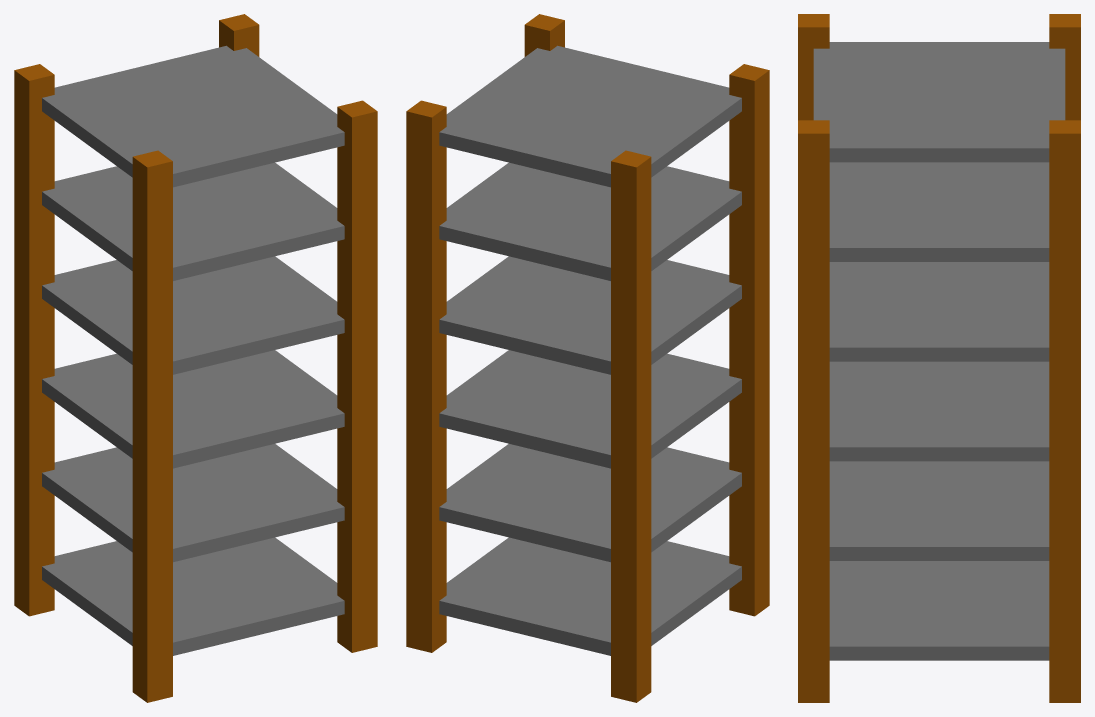
3 views of the same model, side by side, from view 1: azimuth 30°, elevation 25°; view 2: azimuth 150°, elevation 25°; view 3: azimuth 270°, elevation 25° (orthographic). The views are drawn at different scales.
Visible parts, largest first — view 1: Cube.008, Cube.004, Cube.003, Cube.001, Cube.005, Cube, Cube.006, Cube.007, Cube.009, Cube.002; view 2: Cube.008, Cube.001, Cube.002, Cube.004, Cube.005, Cube, Cube.006, Cube.007, Cube.009, Cube.003; view 3: Cube.008, Cube.006, Cube, Cube.005, Cube.007, Cube.009, Cube.002, Cube.003, Cube.001, Cube.004.
Part boxes in pixels (x1=…): Cube.008: x1=42, y1=45, x2=344, y2=187; Cube.004: x1=132, y1=150, x2=172, y2=702; Cube.003: x1=337, y1=100, x2=377, y2=652; Cube.001: x1=14, y1=64, x2=54, y2=616; Cube.005: x1=42, y1=444, x2=344, y2=562; Cube: x1=42, y1=537, x2=344, y2=655; Cube.006: x1=42, y1=350, x2=344, y2=468; Cube.007: x1=42, y1=256, x2=344, y2=374; Cube.009: x1=42, y1=162, x2=344, y2=280; Cube.002: x1=219, y1=14, x2=259, y2=56; Cube.008: x1=439, y1=45, x2=741, y2=187; Cube.001: x1=611, y1=150, x2=651, y2=702; Cube.002: x1=406, y1=100, x2=446, y2=652; Cube.004: x1=729, y1=64, x2=769, y2=616; Cube.005: x1=439, y1=444, x2=741, y2=562; Cube: x1=439, y1=537, x2=741, y2=655; Cube.006: x1=439, y1=350, x2=741, y2=468; Cube.007: x1=439, y1=256, x2=741, y2=374; Cube.009: x1=439, y1=162, x2=741, y2=280; Cube.003: x1=524, y1=14, x2=564, y2=56; Cube.008: x1=813, y1=42, x2=1065, y2=162; Cube.006: x1=829, y1=361, x2=1049, y2=461; Cube: x1=829, y1=561, x2=1049, y2=660; Cube.005: x1=829, y1=461, x2=1049, y2=560; Cube.007: x1=829, y1=262, x2=1049, y2=361; Cube.009: x1=829, y1=162, x2=1049, y2=261; Cube.002: x1=1049, y1=120, x2=1080, y2=702; Cube.003: x1=798, y1=120, x2=829, y2=702; Cube.001: x1=1049, y1=14, x2=1080, y2=120; Cube.004: x1=798, y1=14, x2=829, y2=120.
Bounding box in the file's own units: 1.02 × 2.27 × 1.02.
